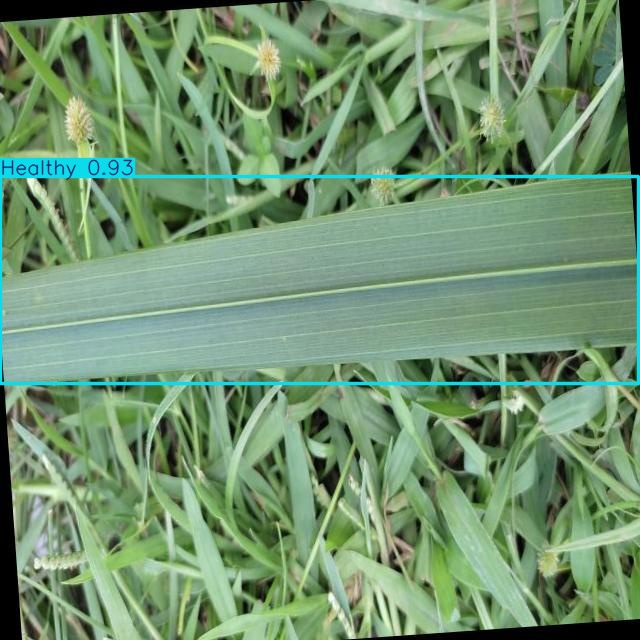Healthy: (0, 176, 638, 384)
